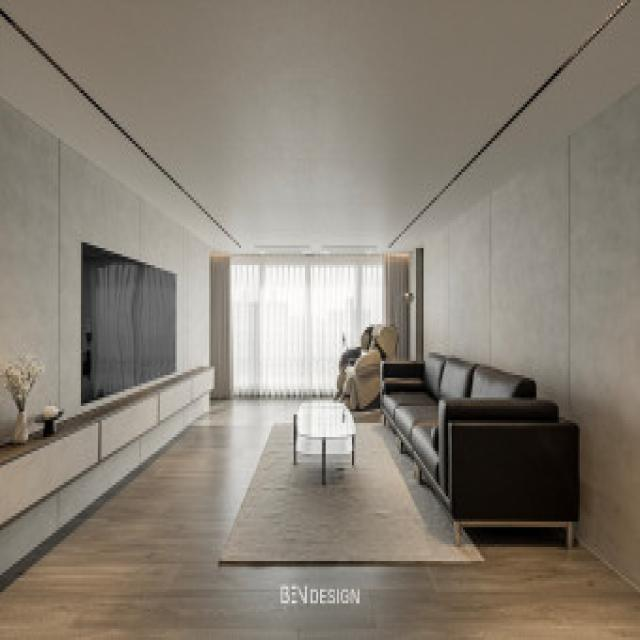Chair: (336, 316, 402, 412)
Sofa: (380, 351, 586, 559)
Table: (292, 397, 358, 491)
tv: (82, 237, 177, 403)
window: (215, 257, 403, 356)
